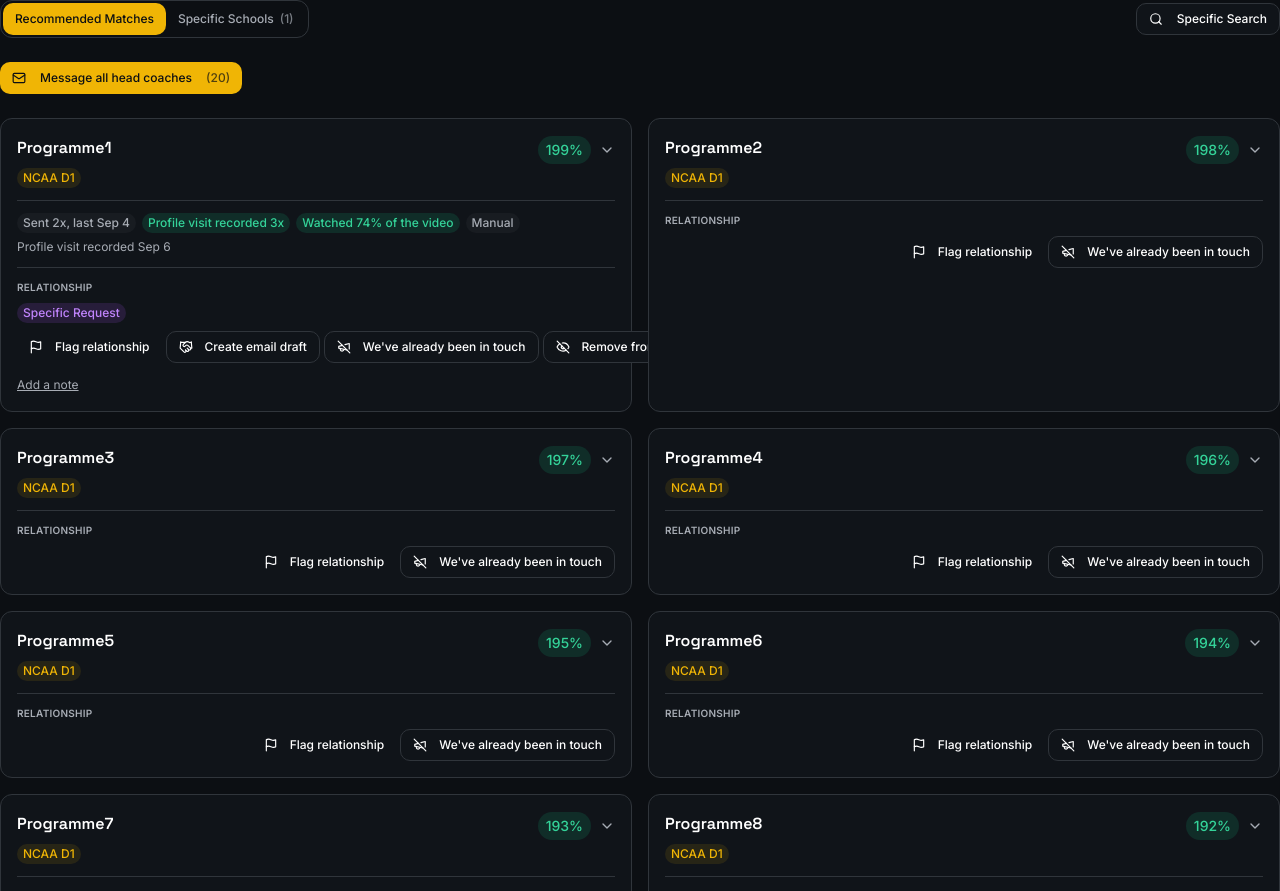
the relationship surfaces show it too › appears on a Specific Schools row
Step 1. Click the tab "Specific Schools(1)" → (236, 19), box [166, 3, 306, 35]
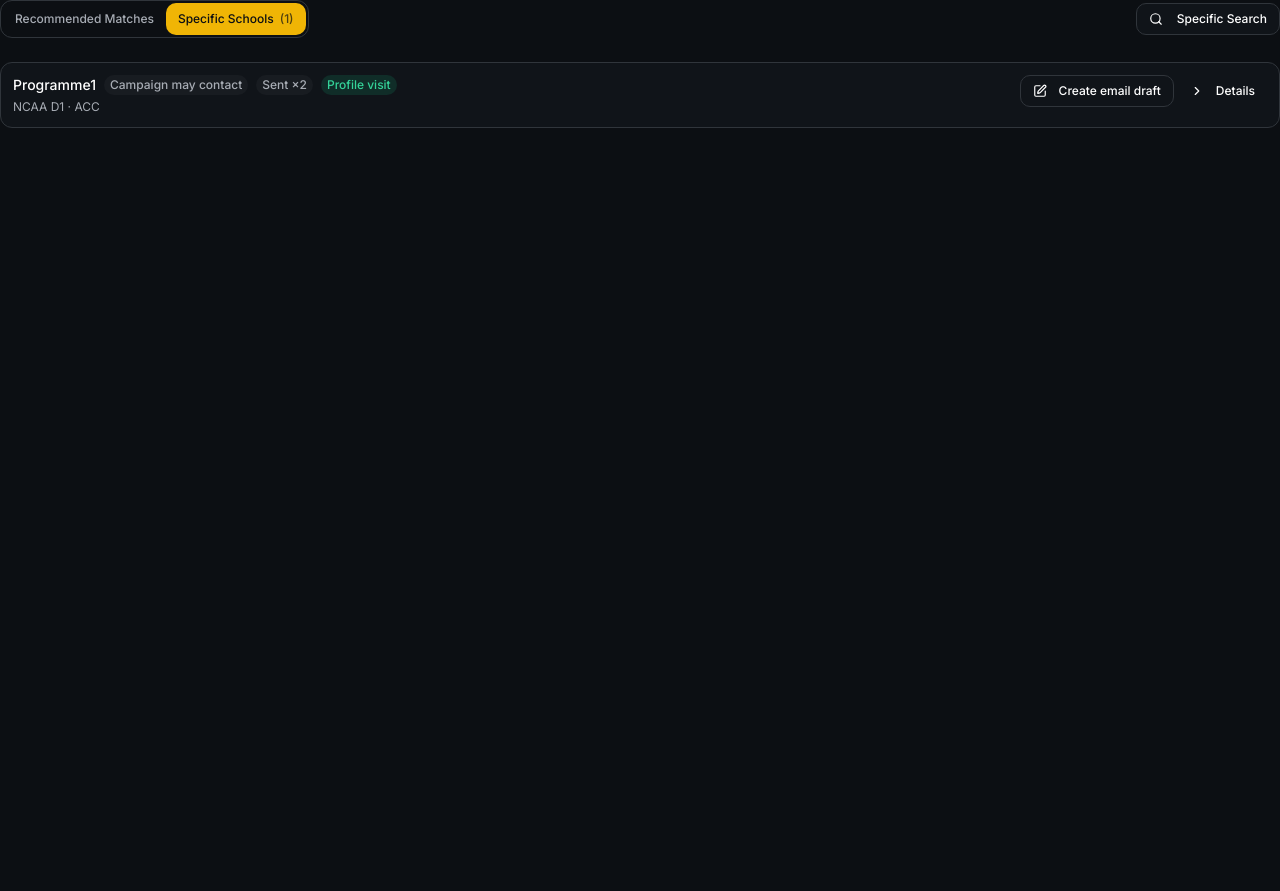
Step 2. Click the button "Details" → (1222, 91), box [1178, 75, 1267, 107]
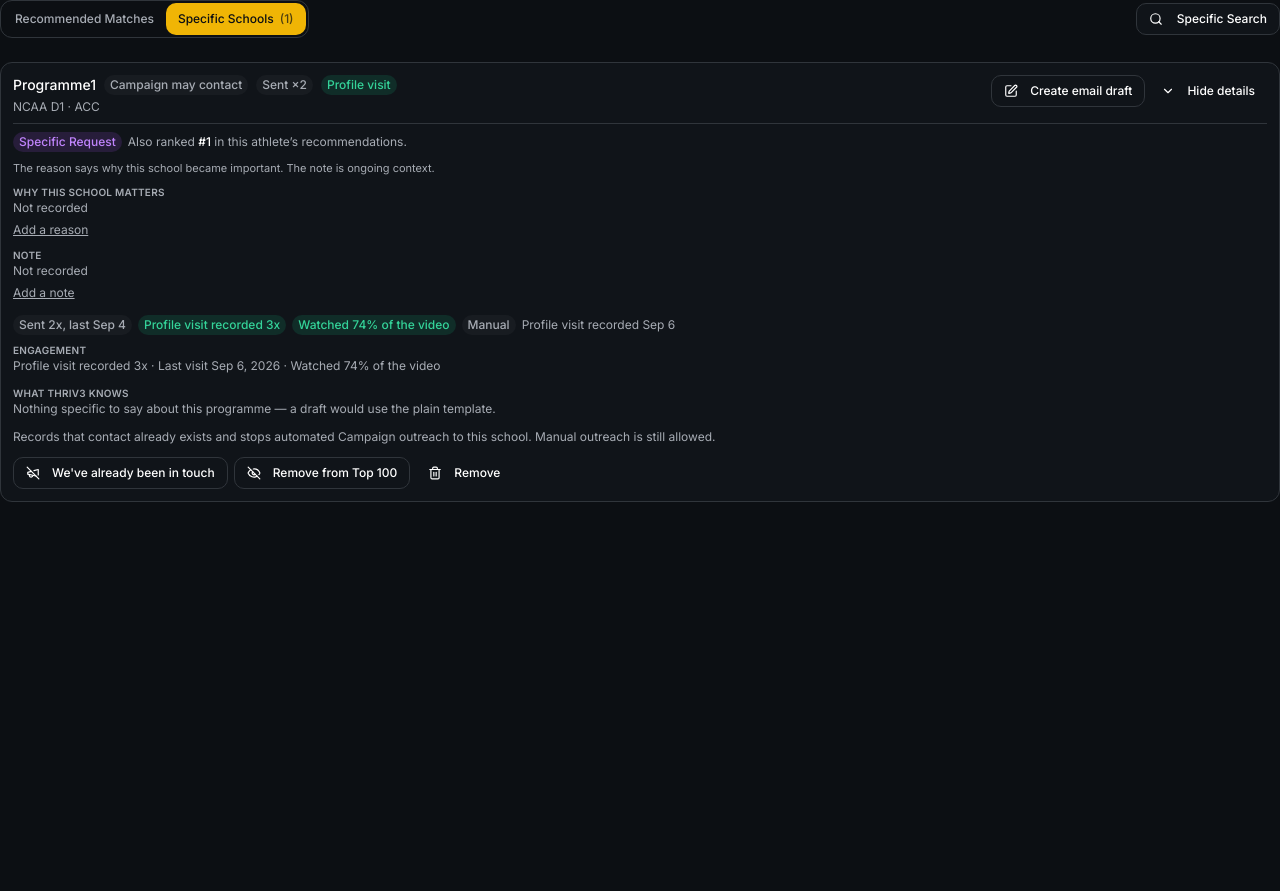
Expected: the element with test id "contact-summary" is shown, [13, 314, 675, 334]
